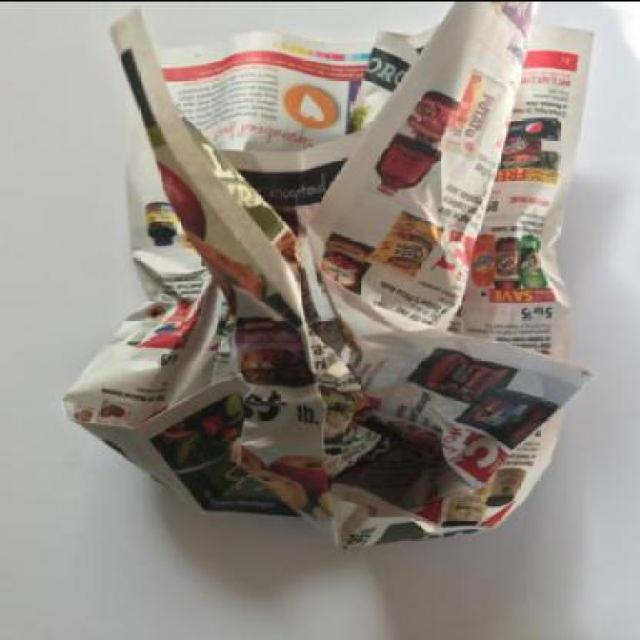PAPER: (63, 1, 597, 548)
